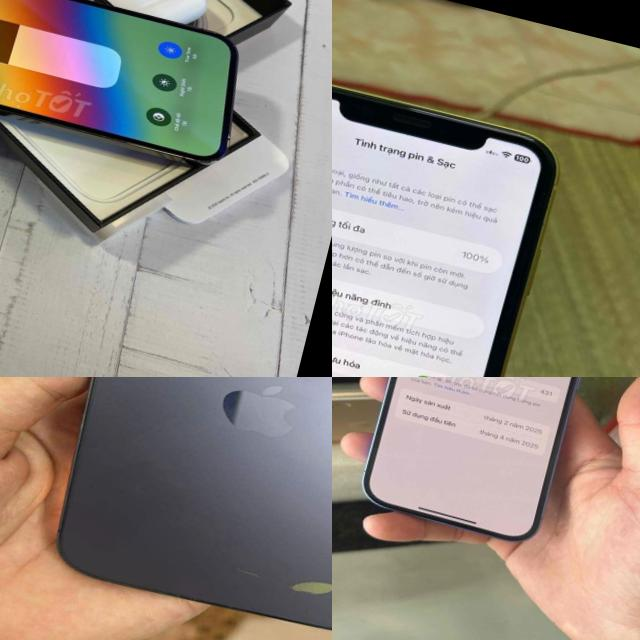scratch: (281, 562, 332, 607), (222, 554, 276, 594)
